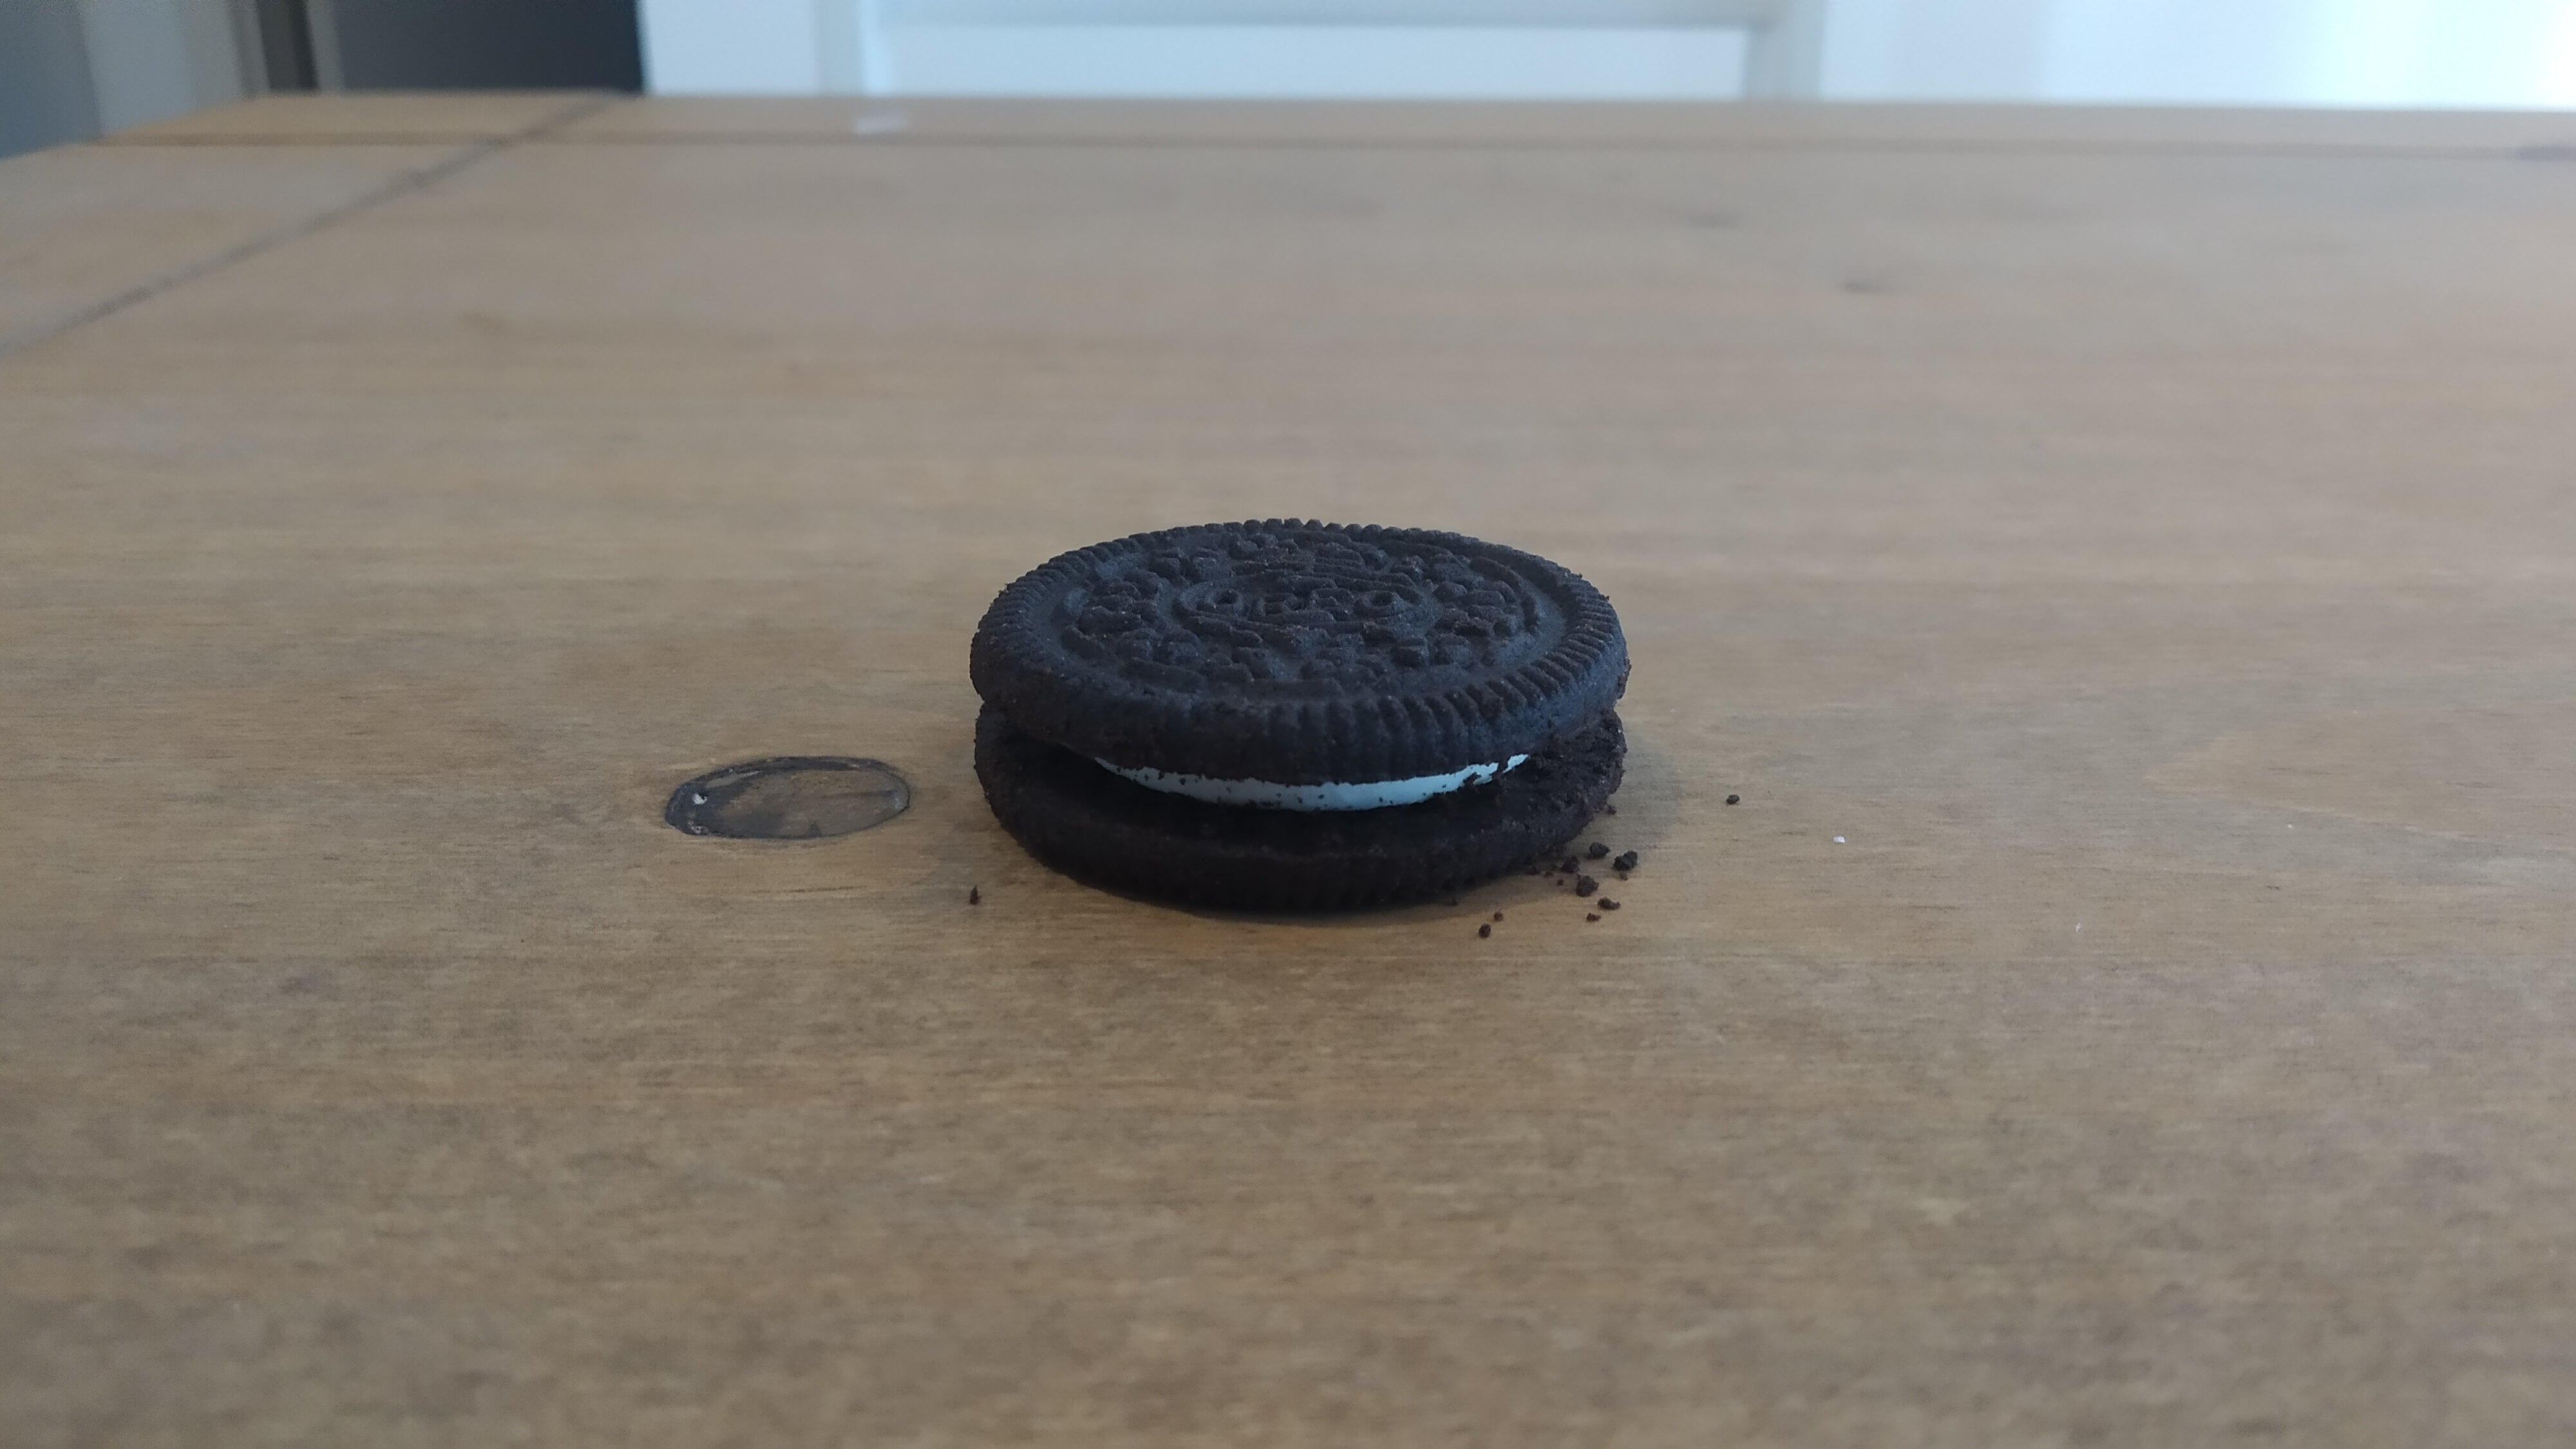oreo: (971, 520, 1629, 913)
